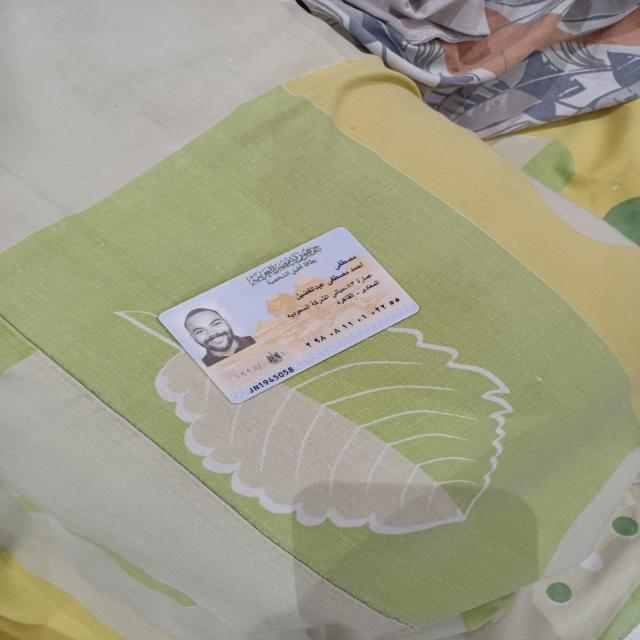ID-cards: (154, 222, 428, 412)
